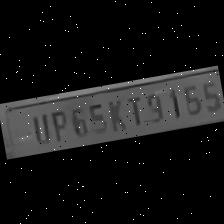1: (161, 84, 183, 120)
5: (198, 76, 224, 113), (84, 98, 109, 135)
6: (177, 80, 203, 118), (64, 102, 90, 138)
9: (140, 86, 167, 124)
K: (102, 95, 128, 134)
P: (45, 106, 70, 143)
T: (122, 92, 146, 128)
U: (25, 109, 50, 145)
